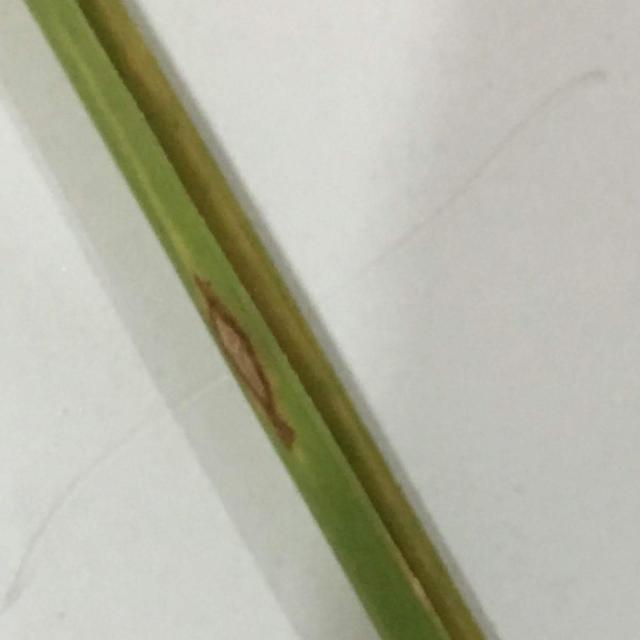Leaf_Blast: (200, 276, 332, 489)
